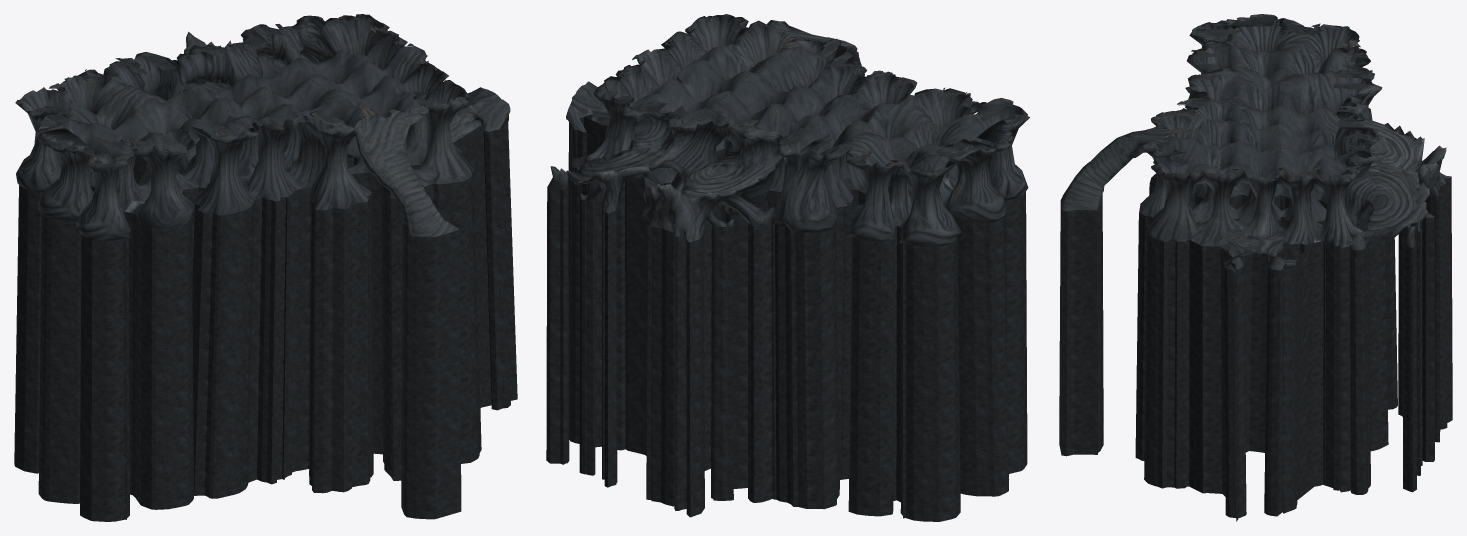
File: horaro_root_base_lod0.glb
The picture shows the model from 3 angles, left to right: view 1: azimuth 30°, elevation 25°; view 2: azimuth 150°, elevation 25°; view 3: azimuth 270°, elevation 25°; orthographic projection. The views are drawn at different scales.
Visible parts, largest first — view 1: horaro_root_base_L0_foundation, horaro_root_base_lod0; view 2: horaro_root_base_L0_foundation, horaro_root_base_lod0; view 3: horaro_root_base_L0_foundation, horaro_root_base_lod0.
Boxes of the visible parts, left/top/right/bottom form: horaro_root_base_L0_foundation: left=14, top=81, right=517, bottom=521; horaro_root_base_lod0: left=15, top=14, right=510, bottom=240; horaro_root_base_L0_foundation: left=546, top=117, right=1027, bottom=521; horaro_root_base_lod0: left=547, top=14, right=1029, bottom=246; horaro_root_base_L0_foundation: left=1059, top=176, right=1452, bottom=521; horaro_root_base_lod0: left=1060, top=14, right=1450, bottom=272.
Bounding box in the file's own units: 21.16 × 15.89 × 18.01.
2 materials, 2 textured.
